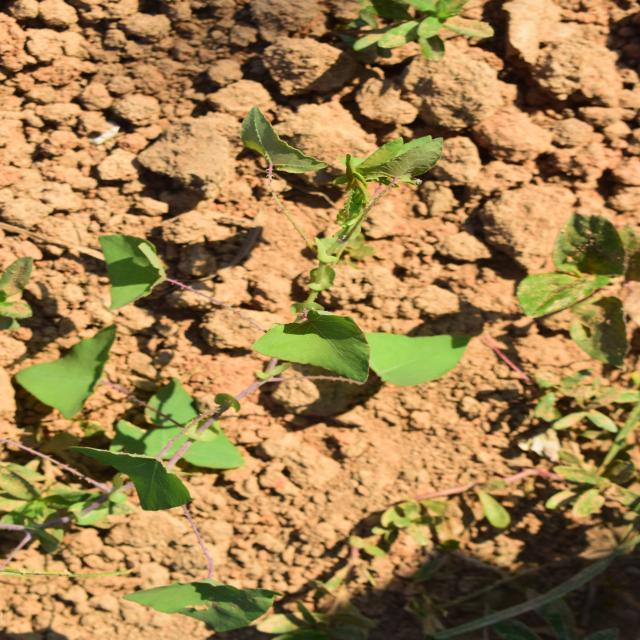Asiatic_Smartweed: (416, 224, 532, 453), (232, 243, 334, 470), (130, 76, 222, 241), (214, 18, 313, 134), (323, 86, 412, 198)
